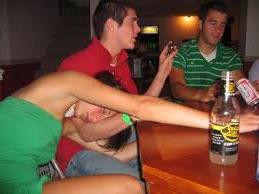Drunk: (76, 97, 118, 124), (204, 9, 228, 46), (121, 10, 142, 50)
